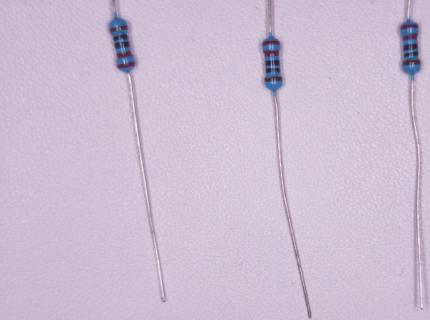Black band: (113, 34, 128, 41), (116, 41, 129, 48), (403, 44, 418, 50), (266, 60, 280, 66), (404, 51, 418, 57), (266, 68, 280, 73)
Brown band: (110, 25, 128, 33), (403, 60, 420, 66), (265, 77, 282, 82)
Red band: (116, 51, 134, 59), (117, 62, 135, 70), (263, 50, 280, 58), (402, 34, 419, 41), (262, 40, 280, 46), (400, 25, 419, 30)
